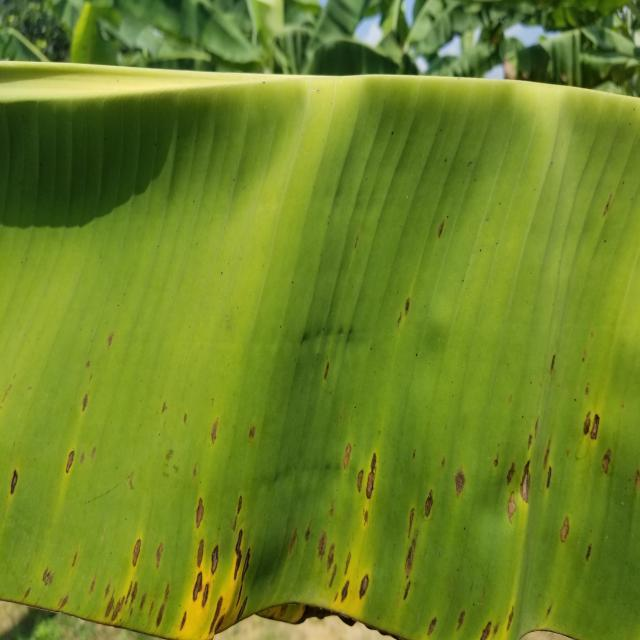Early_rust: (0, 125, 640, 640)
